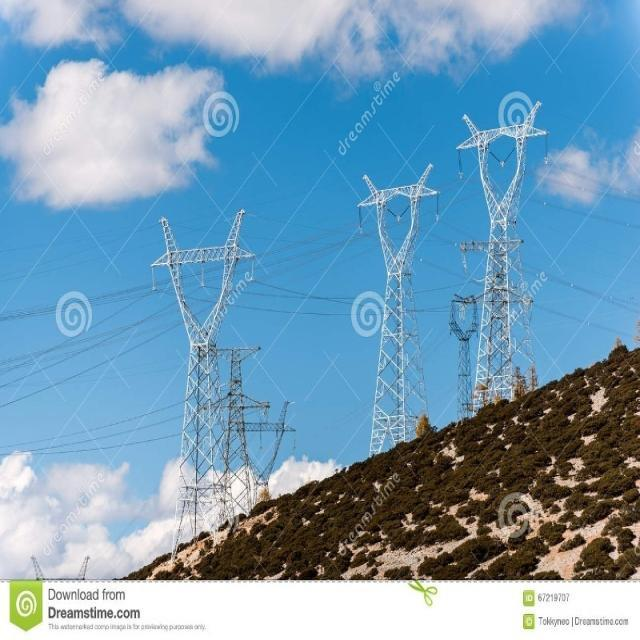non-critical vegetation: (158, 186, 262, 527), (339, 152, 426, 440), (448, 94, 522, 392)
